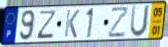1: (85, 7, 95, 40)
9: (19, 9, 36, 42)
K: (63, 9, 81, 39)
U: (128, 4, 152, 39)
Z: (108, 6, 131, 39), (35, 9, 59, 40)
